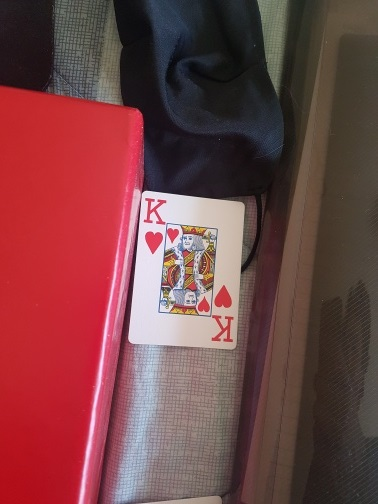king: (124, 189, 247, 350)
